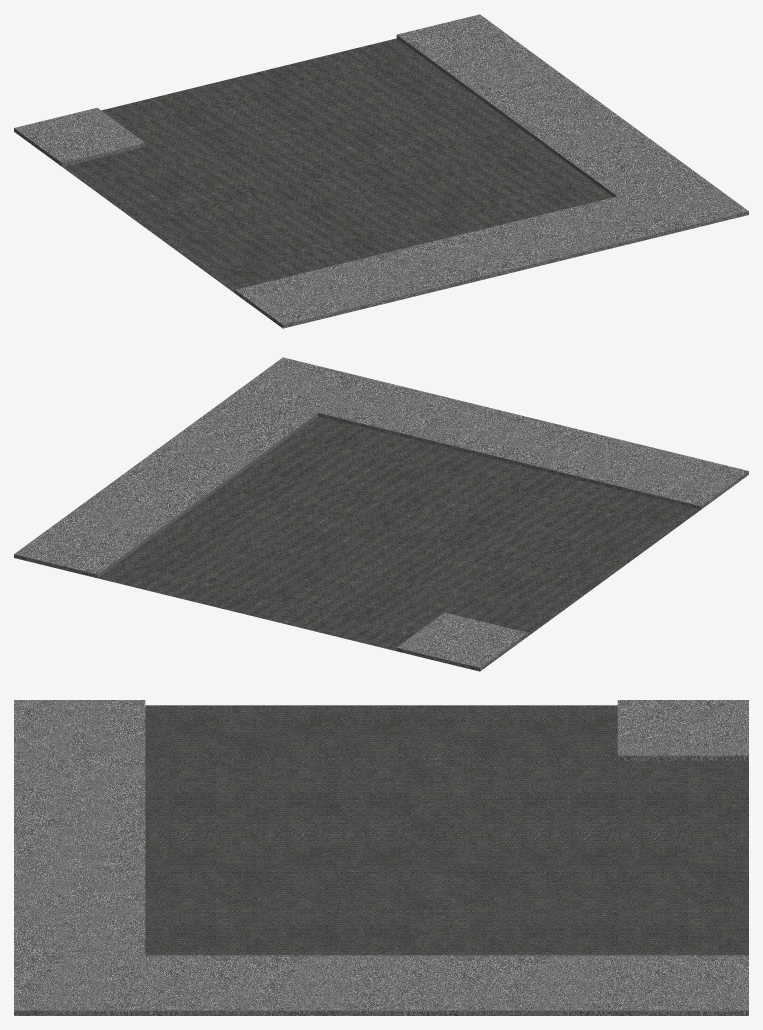
The model's file is Road_Corner.glb.
3 views of the same model, one above another, from view 1: azimuth 30°, elevation 25°; view 2: azimuth 150°, elevation 25°; view 3: azimuth 270°, elevation 25° (orthographic). The views are drawn at different scales.
Visible parts, largest first — view 1: Road_Corner; view 2: Road_Corner; view 3: Road_Corner.
Part boxes in pixels (bbox=[...]): Road_Corner: bbox=[14, 14, 748, 328]; Road_Corner: bbox=[14, 357, 748, 671]; Road_Corner: bbox=[14, 700, 748, 1015].
Size of the model in its own units: 15.57 by 0.1182 by 15.57.
Materials: 2 (2 with a texture image).
